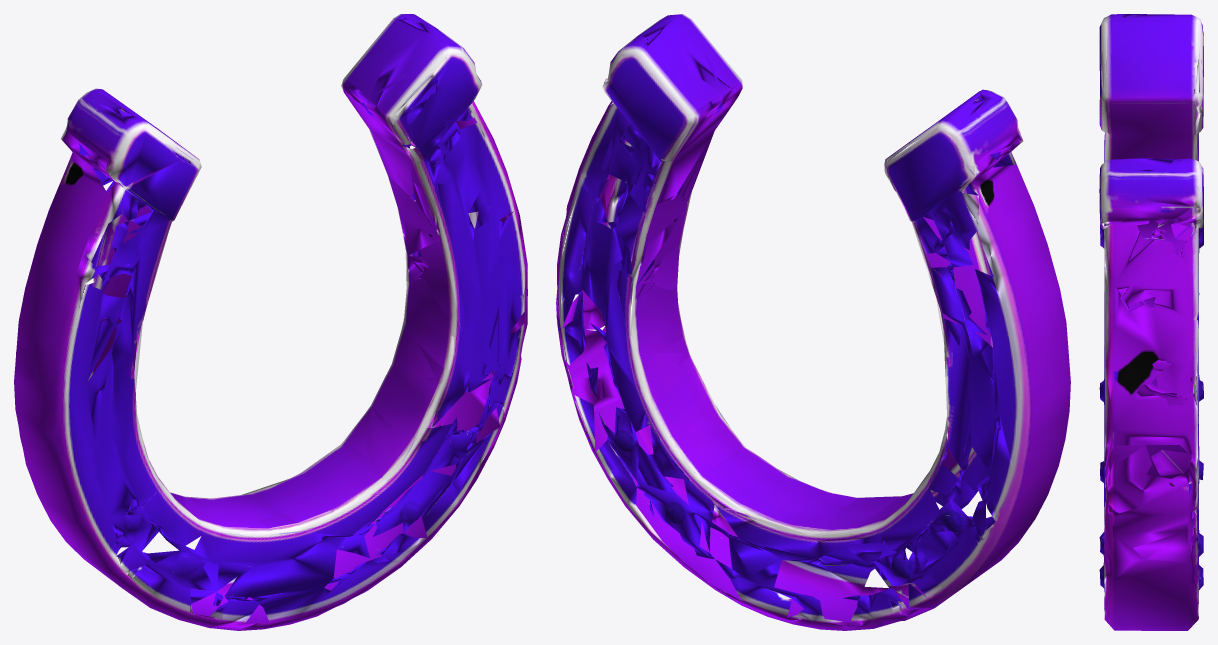
Rendered from powerup_magnet.glb.
3 renders of one model, left to right at view 1: azimuth 30°, elevation 25°; view 2: azimuth 150°, elevation 25°; view 3: azimuth 270°, elevation 25°, orthographic. The views are drawn at different scales.
Parts seen in each view (by area): view 1: Mesh1.0; view 2: Mesh1.0; view 3: Mesh1.0.
Part boxes in pixels (left/top/right/bottom): Mesh1.0: left=14, top=14, right=527, bottom=630; Mesh1.0: left=556, top=14, right=1070, bottom=630; Mesh1.0: left=1099, top=14, right=1203, bottom=630.
Bounding box in the file's own units: 0.7781 × 0.85 × 0.1553.
1 material, 1 textured.
